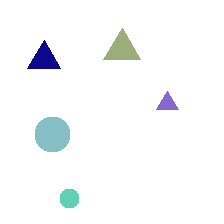circle: (35, 117, 69, 151), (60, 189, 78, 207)
triangle: (103, 28, 140, 59), (27, 40, 60, 68), (156, 91, 178, 109)
